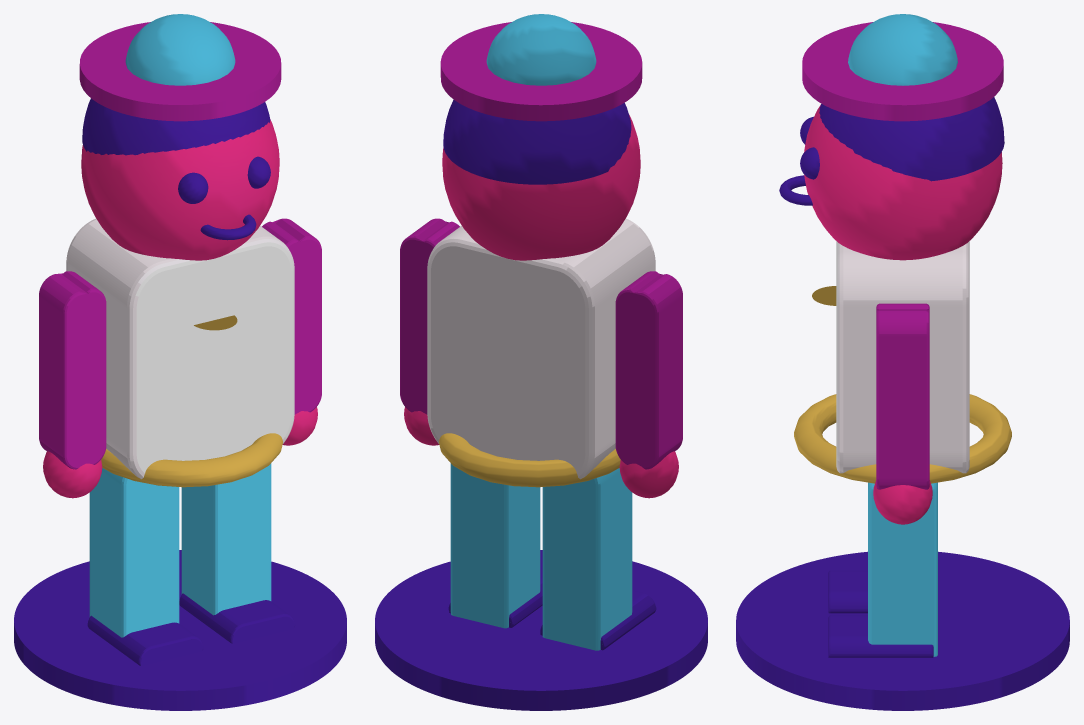
File: 0259_世界古代文明图鉴_木乃伊.glb
The picture shows the model from 3 angles, left to right: view 1: azimuth 30°, elevation 25°; view 2: azimuth 150°, elevation 25°; view 3: azimuth 270°, elevation 25°; orthographic projection.
Parts seen in each view (by area): view 1: card_0259; view 2: card_0259; view 3: card_0259.
Part boxes in pixels (x1=…): card_0259: x1=14, y1=14, x2=346, y2=710; card_0259: x1=375, y1=14, x2=707, y2=710; card_0259: x1=736, y1=14, x2=1069, y2=710.
Bounding box in the file's own units: 0.4857 × 1 × 0.487.
